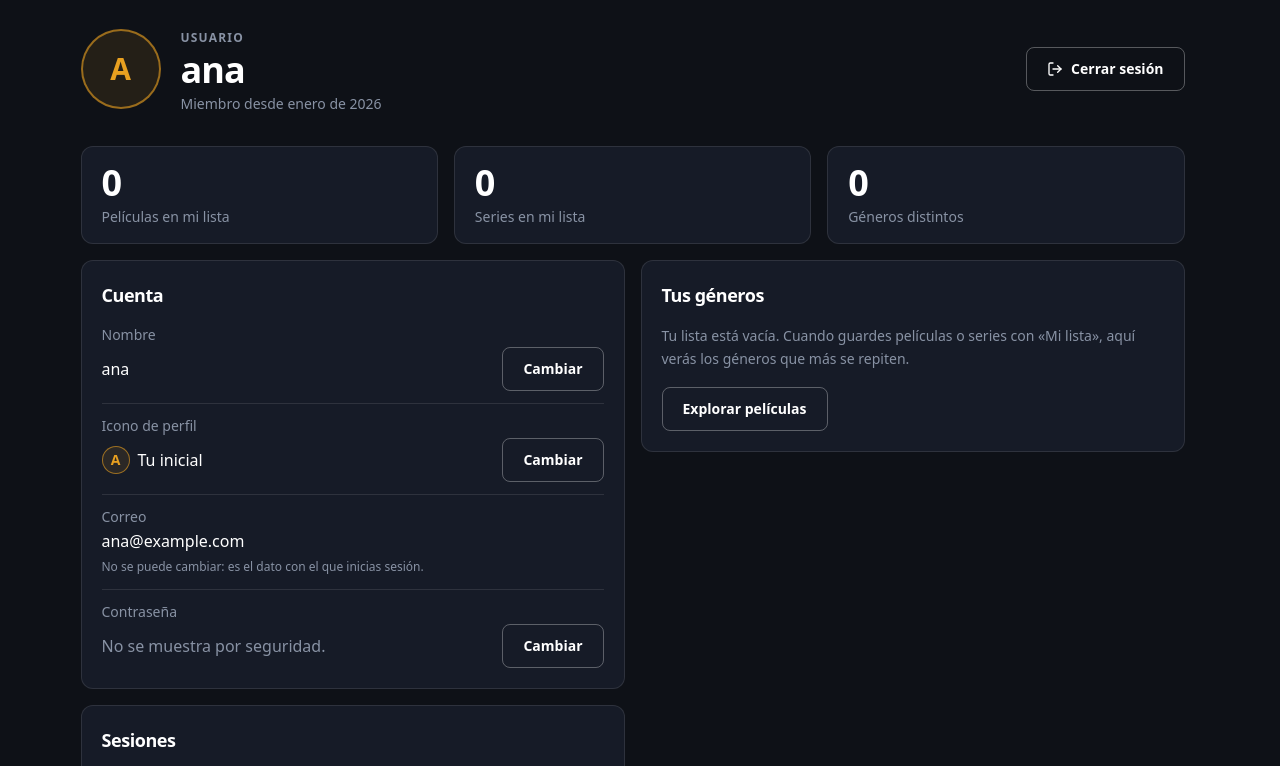
it: ProfilePage: cambiar el nombre › «Cambiar nombre» abre el campo con el nombre actual y el foco; al guardar, la cabecera cambia al instante y el foco vuelve
Click the button with aria-label "Cambiar nombre".
click(553, 369)  # box [502,347,604,391]
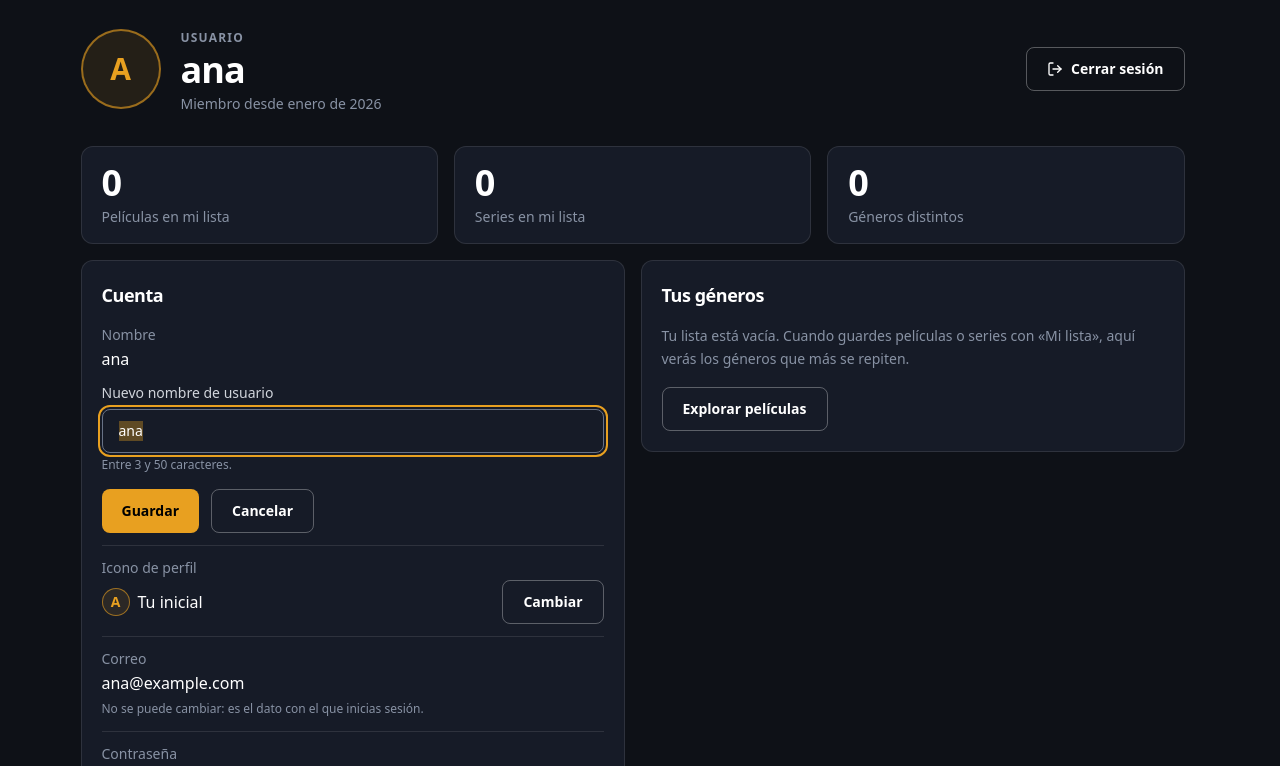
Now the field labelled "Nuevo nombre de usuario" holds "ana"
Replace the text in the field labelled "Nuevo nombre de usuario" with "  Ana   Nueva " at [352, 431], box [102,409,604,453]
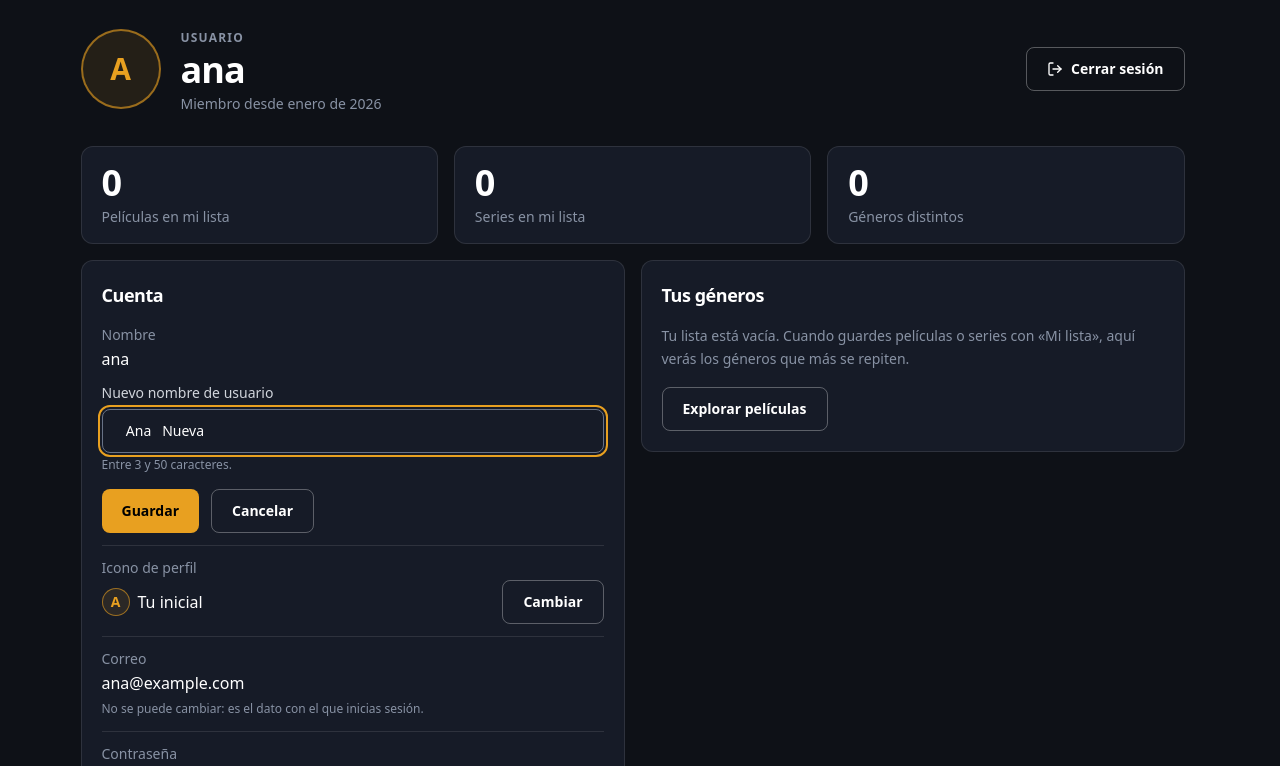
Click the button "Guardar".
click(150, 511)  # box [102,489,199,533]
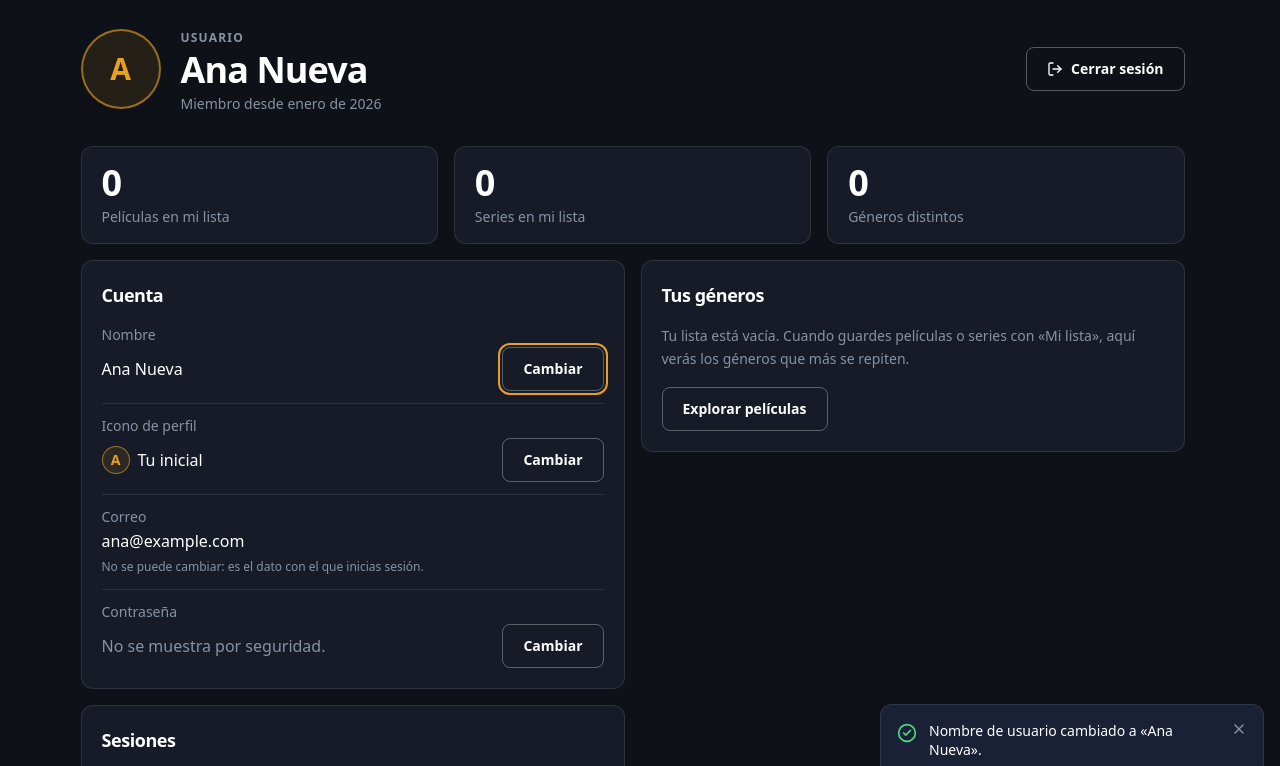
Now the label "Nuevo nombre de usuario" is gone
